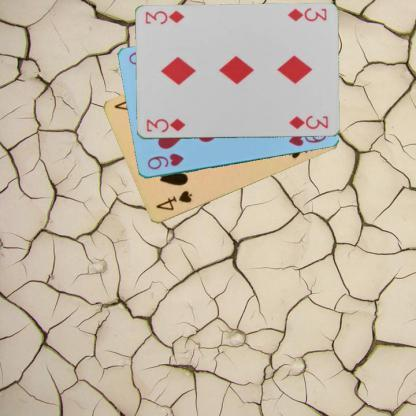3d: (284, 5, 328, 23), (144, 116, 186, 134)
4s: (153, 188, 194, 213)
9h: (144, 151, 185, 171)
